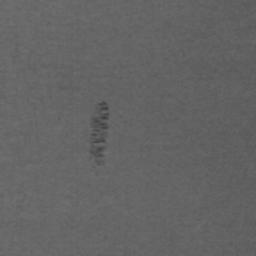Secondary rust skin: (88, 100, 110, 166)
